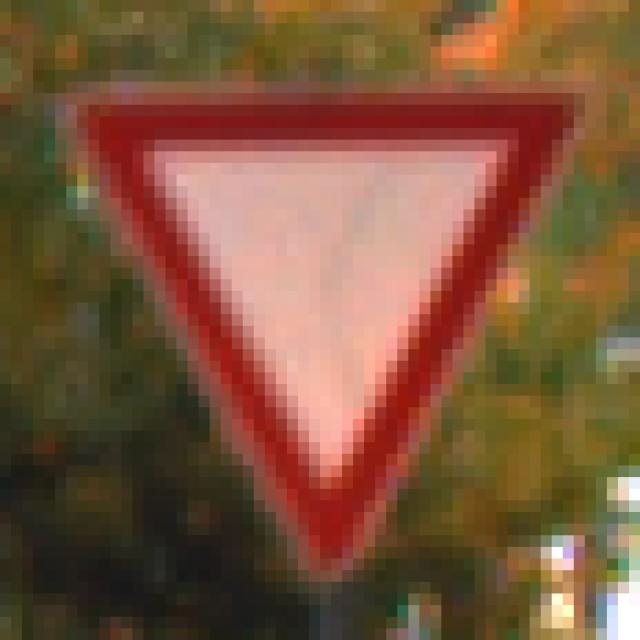Give Way: (56, 59, 586, 571)
